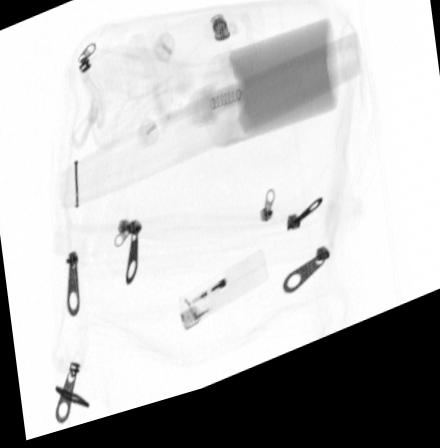Lighter: (177, 262, 269, 342)
